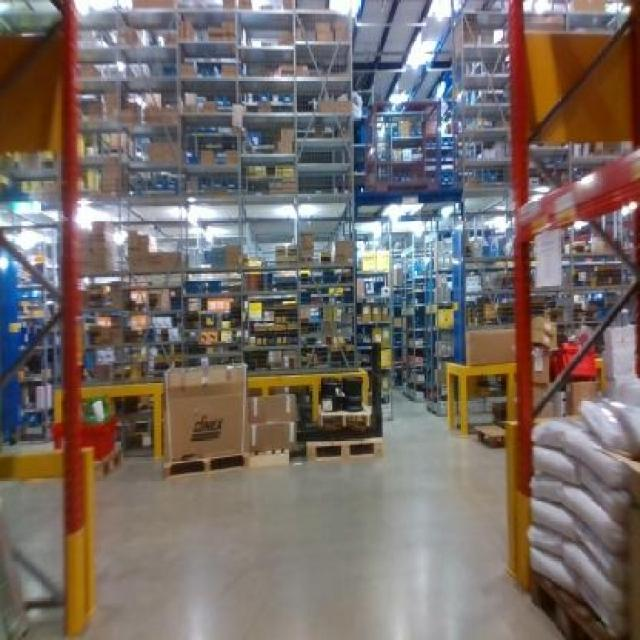pallets: (528, 397, 637, 637), (163, 363, 243, 472)
